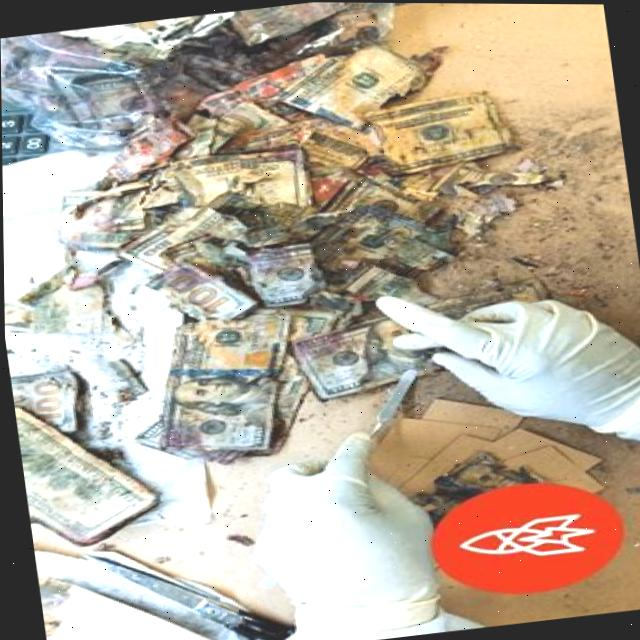banknote: (284, 271, 557, 403), (140, 302, 300, 465), (12, 386, 163, 552), (273, 27, 447, 141), (131, 141, 315, 233), (355, 84, 520, 175), (111, 196, 251, 281), (132, 256, 260, 330), (7, 257, 110, 345), (43, 177, 148, 255), (8, 360, 89, 437), (68, 66, 155, 133), (252, 236, 330, 309), (164, 264, 231, 316), (25, 376, 76, 424), (101, 480, 148, 512), (52, 516, 96, 545), (240, 418, 270, 448), (161, 422, 186, 452)
